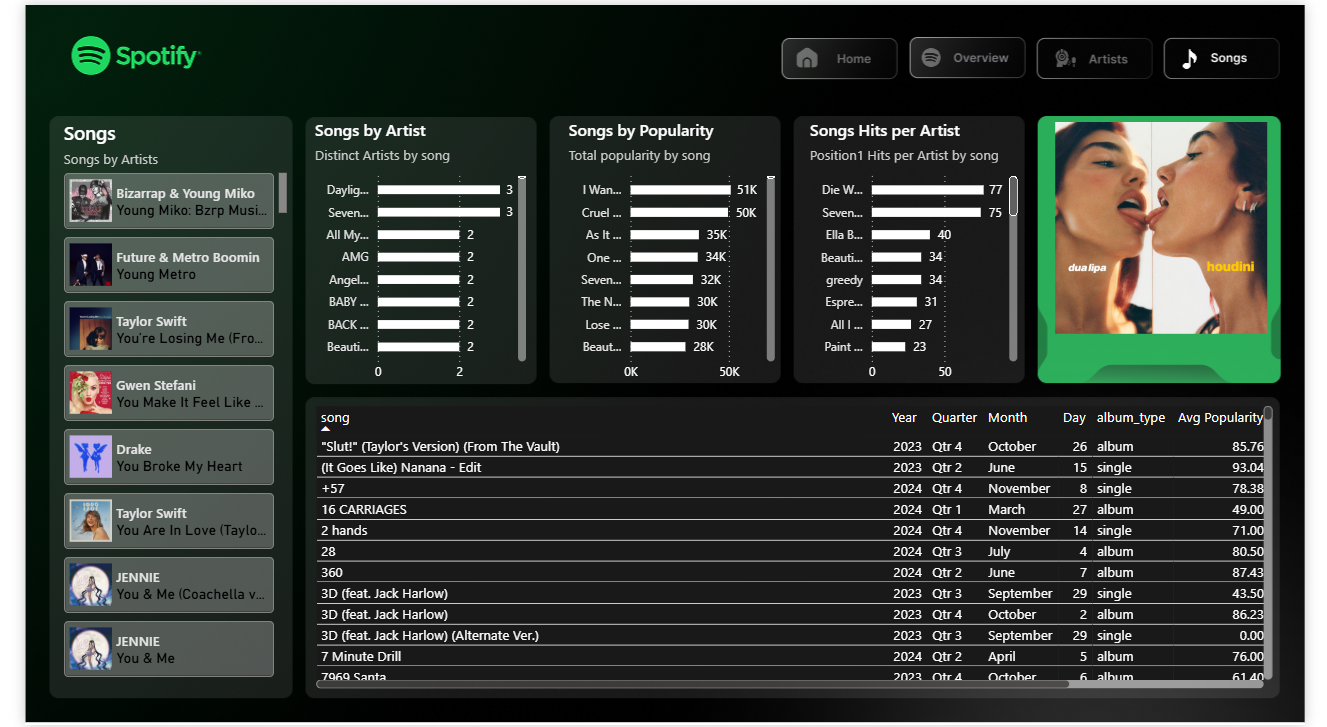

The page's visual inventory and layout, read from the dashboard file:
{"tool":"powerbi","page":{"name":"Songs","canvas":[1280,720],"ordinal":3},"visuals":[{"type":"actionButton","box":[758,32.5,115,40],"z":0},{"type":"actionButton","box":[885.5,32.5,115,40],"z":1000},{"type":"actionButton","box":[1013,32.5,115,40],"z":2000},{"type":"actionButton","box":[1138,32.5,115,40],"z":3000},{"type":"advancedSlicerVisual","title":"Songs","fields":{"Values":["Top-50-World.song"],"Label":["Min(Top-50-World.album_cover_url)"]},"box":[33.8,115,233.8,563.8],"z":3004},{"type":"cardVisual","fields":{"Data":["Min(Top-50-World.album_cover_url)"]},"box":[995,100,283.8,246.2],"z":3005},{"type":"tableEx","fields":{"Values":["Top-50-World.song","Top-50-World.release_date.Variation.Date Hierarchy.Year","Top-50-World.release_date.Variation.Date Hierarchy.Quarter","Top-50-World.release_date.Variation.Date Hierarchy.Month","Top-50-World.release_date.Variation.Date Hierarchy.Day","Top-50-World.album_type","_Measure.Avg Popularity","_Measure.Max Popularity","_Measure.Avg Duration Minutes"]},"box":[285,396.2,967.5,292.5],"z":3007},{"type":"clusteredBarChart","title":"Songs by Artist","fields":{"Y":["_Measure.Distinct Artists"],"Category":["Top-50-World.song"]},"box":[285,113.8,221.2,271.2],"z":3008},{"type":"clusteredBarChart","title":"Songs by Popularity","fields":{"Y":["Sum(Top-50-World.popularity)"],"Category":["Top-50-World.song"]},"box":[538.8,113.8,216.2,271.2],"z":3009},{"type":"clusteredBarChart","title":"Songs Hits per Artist","fields":{"Y":["_Measure.Position1 Hits per Artist"],"Category":["Top-50-World.song"]},"box":[780,113.8,217.5,271.2],"z":3010}]}

Visuals, with their boxes in screenshot pixels (x1, y1, x2, y2), scaled from the page's 1280x720 canvas onto the 1327x727 screenshot:
actionButton: [786, 33, 905, 73]
actionButton: [918, 33, 1037, 73]
actionButton: [1050, 33, 1169, 73]
actionButton: [1180, 33, 1299, 73]
"Songs" advancedSlicerVisual: [35, 116, 277, 685]
cardVisual - Min(Top-50-World.album_cover_url): [1032, 101, 1326, 350]
tableEx - Top-50-World.song x Top-50-World.release_date.Variation.Date Hierarchy.Year: [295, 400, 1298, 695]
"Songs by Artist" clusteredBarChart: [295, 115, 525, 389]
"Songs by Popularity" clusteredBarChart: [559, 115, 783, 389]
"Songs Hits per Artist" clusteredBarChart: [809, 115, 1034, 389]
